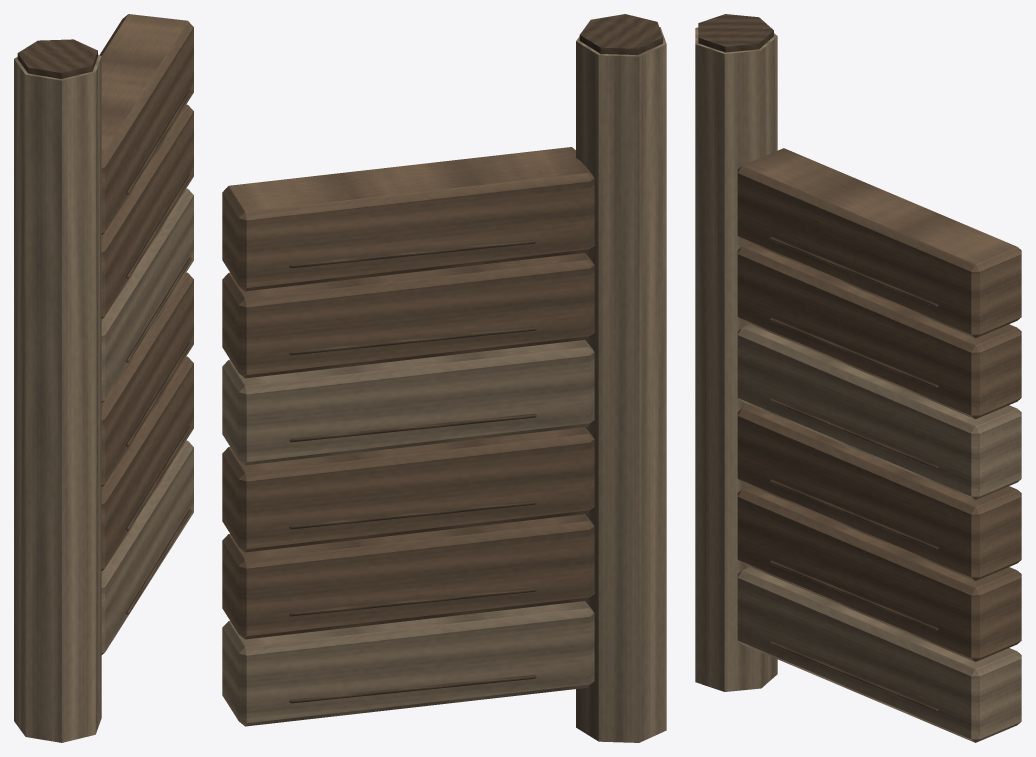
The model's file is wall_mask_8.glb.
3 views of the same model, side by side, from view 1: azimuth 30°, elevation 25°; view 2: azimuth 150°, elevation 25°; view 3: azimuth 270°, elevation 25° (orthographic). The views are drawn at different scales.
Parts seen in each view (by area): view 1: Timber worn edges, Weathered timber, Dark endgrain; view 2: Weathered timber, Timber worn edges, Dark endgrain; view 3: Weathered timber, Timber worn edges, Dark endgrain.
Part boxes in pixels (x1,y1,x2,y2): Timber worn edges: [14, 54, 193, 742]; Weathered timber: [100, 14, 193, 570]; Dark endgrain: [17, 39, 192, 614]; Weathered timber: [222, 147, 594, 639]; Timber worn edges: [222, 27, 666, 742]; Dark endgrain: [289, 14, 662, 703]; Weathered timber: [737, 148, 1021, 661]; Timber worn edges: [695, 27, 1021, 742]; Dark endgrain: [698, 14, 938, 712].
Bounding box in the file's own units: 0.6463 × 1.39 × 0.64.
3 materials, 3 textured.
